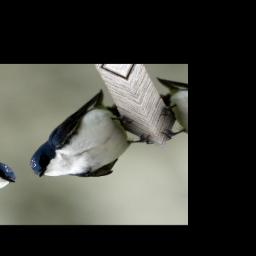Swallow: (0, 84, 166, 191)
